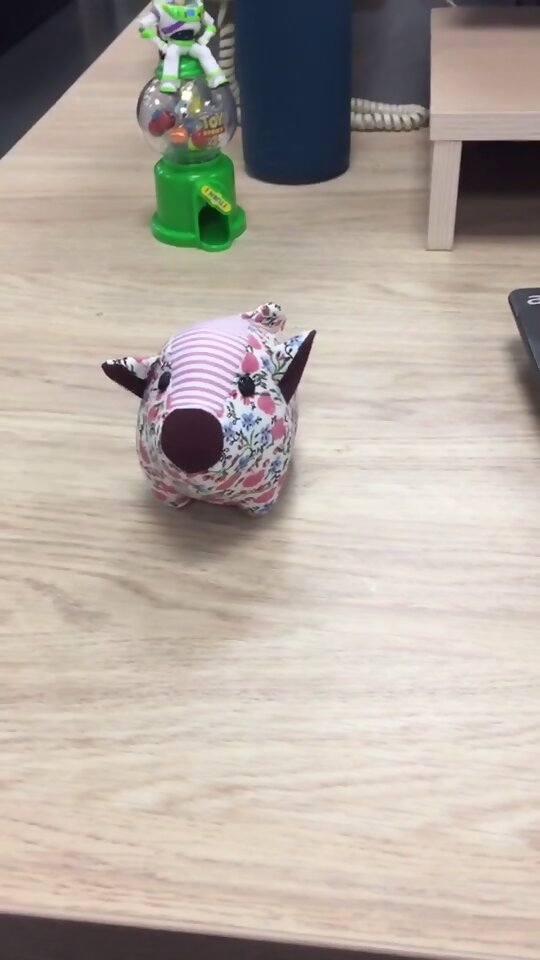pig: (99, 297, 318, 521)
